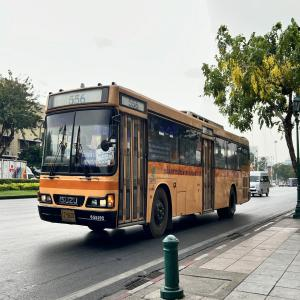BMTA-bus: (37, 82, 251, 238)
Bus Line Number: (65, 93, 89, 107), (127, 96, 140, 112), (204, 126, 212, 137)
Bus Side Number: (89, 212, 107, 223)
Destination Sign: (81, 148, 97, 168)
